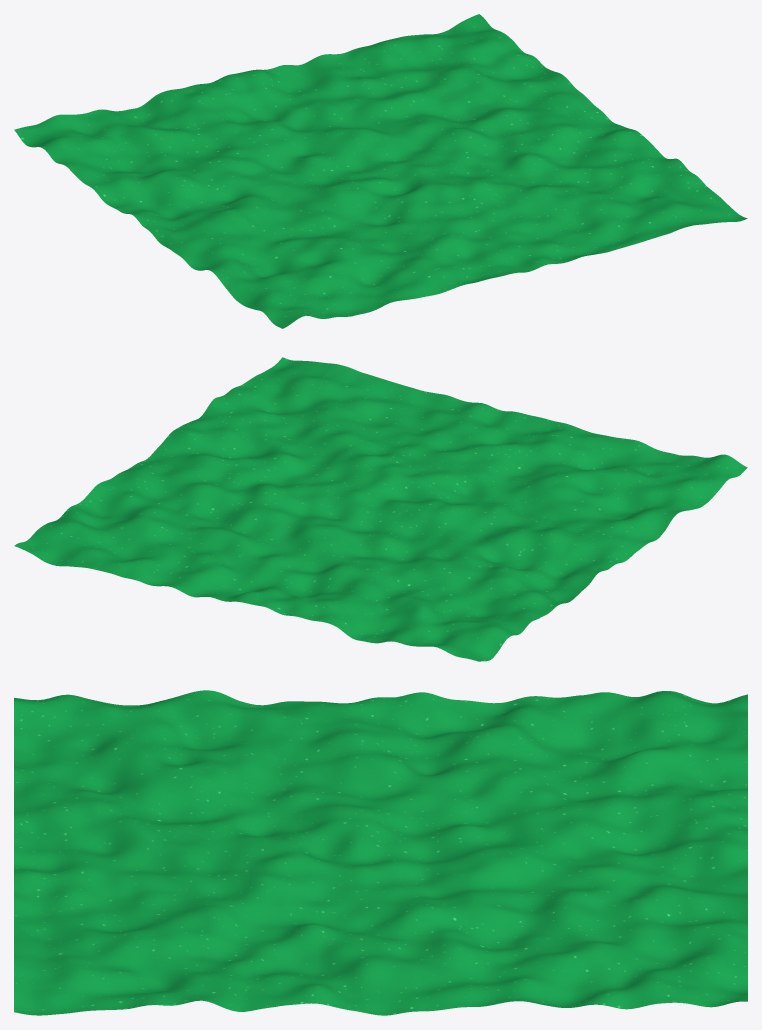
Rendered from fild4.glb.
The picture shows the model from 3 angles, top to bottom: view 1: azimuth 30°, elevation 25°; view 2: azimuth 150°, elevation 25°; view 3: azimuth 270°, elevation 25°; orthographic projection. The views are drawn at different scales.
Parts seen in each view (by area): view 1: Plane; view 2: Plane; view 3: Plane.
Part boxes in pixels (x1=…): Plane: x1=14, y1=14, x2=747, y2=328; Plane: x1=14, y1=357, x2=747, y2=661; Plane: x1=14, y1=690, x2=747, y2=1015.
Size of the model in its own units: 11.39 by 0.4386 by 11.39.
1 material, 1 textured.
